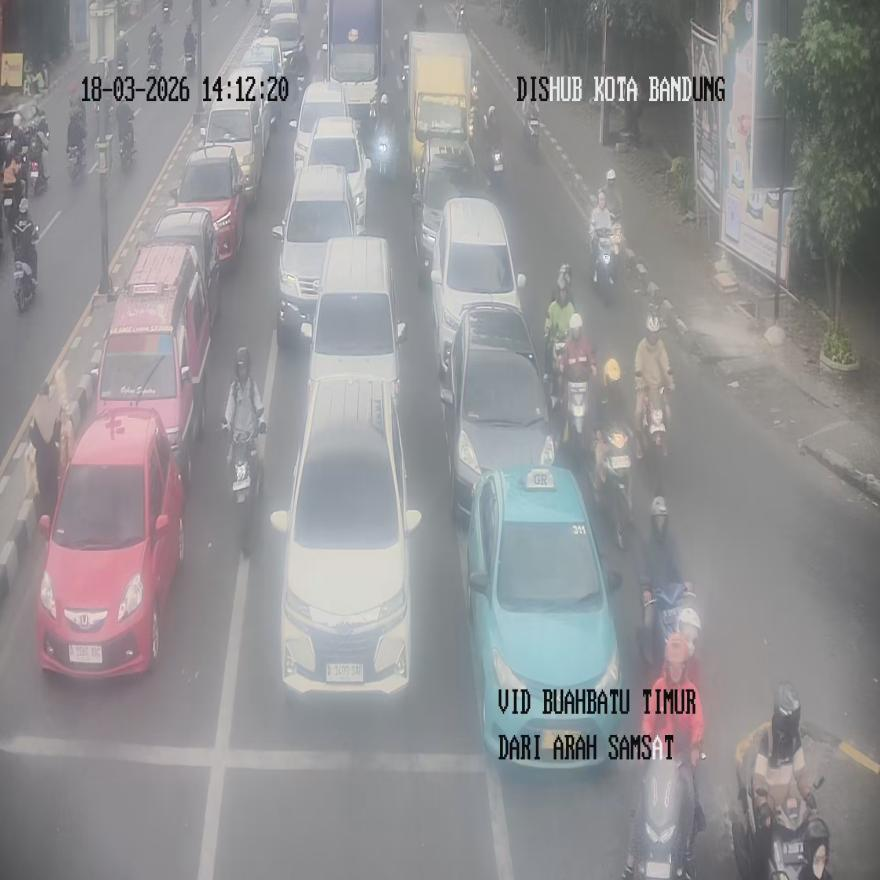Mobil: (270, 372, 421, 699), (465, 465, 624, 769), (36, 409, 184, 677), (96, 240, 210, 488), (442, 302, 556, 519), (301, 235, 405, 405), (431, 196, 526, 378), (272, 163, 362, 336), (203, 66, 268, 205), (170, 142, 246, 260), (152, 205, 220, 330), (306, 115, 370, 233), (290, 81, 350, 176)
Truk berat: (322, 0, 382, 118)
Truk ringan: (403, 30, 475, 186)
